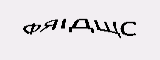І: (59, 17, 68, 30)
Д: (67, 18, 95, 33)
С: (120, 20, 138, 38)
Ф: (21, 21, 41, 35)
Щ: (93, 18, 122, 37)
Я: (38, 18, 59, 34)
